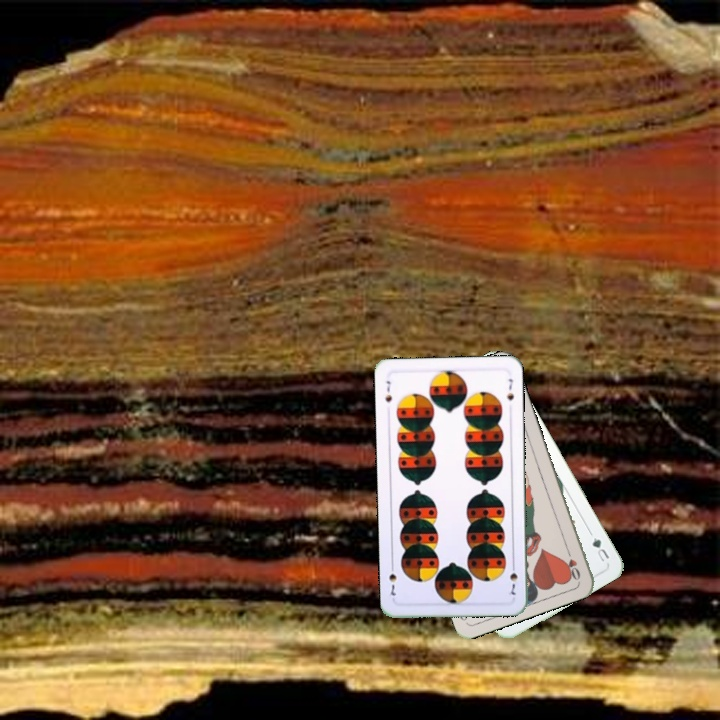GU: (588, 533, 612, 564)
HO: (562, 543, 583, 583)
S7: (504, 559, 520, 597), (381, 377, 394, 405)
